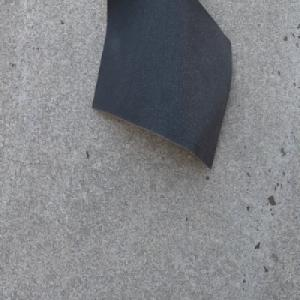PaintChip: (91, 0, 232, 171)
